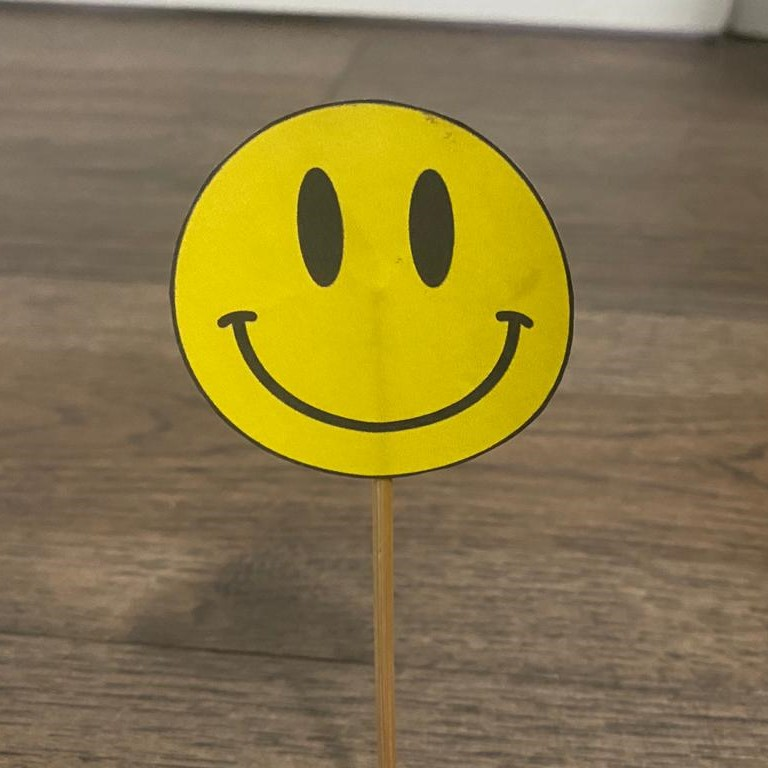Person: (169, 98, 576, 477)
